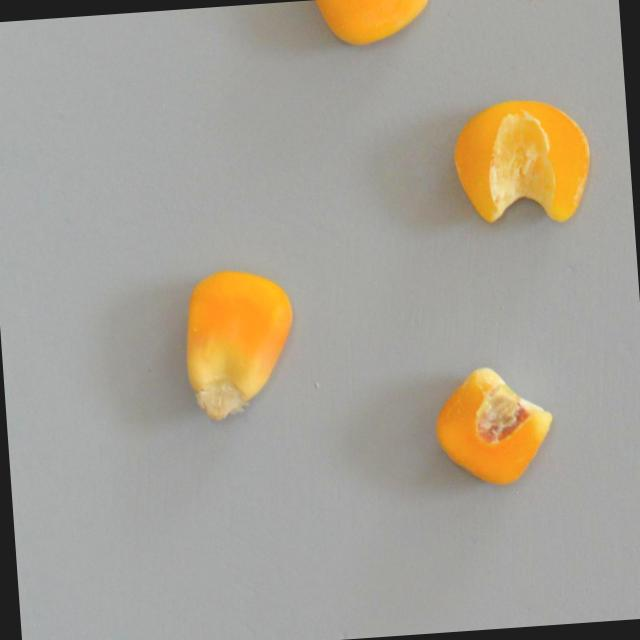dañado: (425, 357, 562, 494)
entero: (167, 259, 304, 423), (297, 0, 440, 55)
no_desgerminado: (444, 90, 597, 230)
